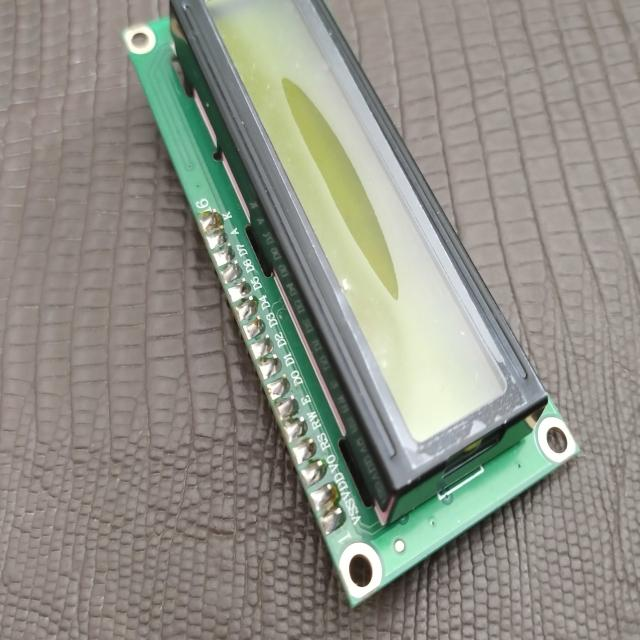lcd: (95, 0, 607, 628)
